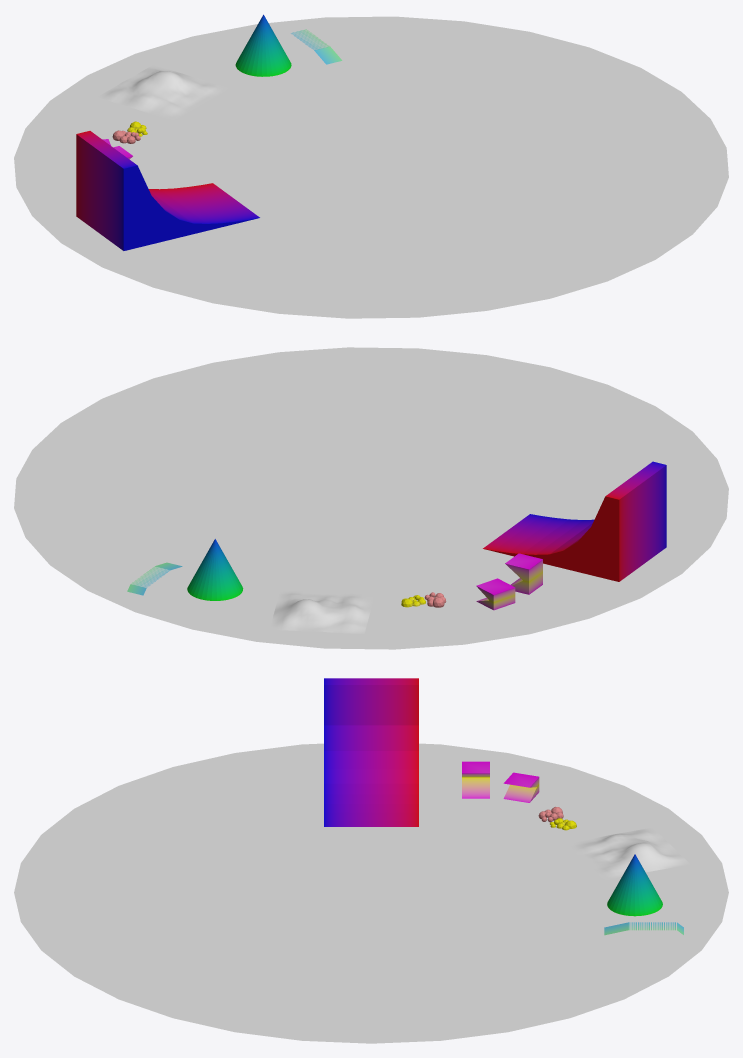
The model's file is kcc.glb.
The picture shows the model from 3 angles, top to bottom: view 1: azimuth 30°, elevation 25°; view 2: azimuth 150°, elevation 25°; view 3: azimuth 270°, elevation 25°; orthographic projection.
Parts seen in each view (by area): view 1: Cylinder, Cube, Plane, Cone, Plane.001; view 2: Cylinder, Cube, Plane, Cone, Cube.001, Cube.002, Plane.001, Icosphere; view 3: Cylinder, Cube, Plane, Cone, Cube.001, Cube.002, Plane.001.
Boxes of the visible parts, box(x1,y1,x2,y2) form: Cylinder: box(14, 16, 728, 318); Cube: box(76, 131, 259, 250); Plane: box(97, 64, 229, 120); Cone: box(235, 14, 291, 76); Plane.001: box(291, 29, 342, 64); Cylinder: box(14, 347, 728, 649); Cube: box(483, 461, 666, 581); Plane: box(269, 589, 374, 633); Cone: box(187, 539, 243, 600); Cube.001: box(505, 553, 542, 594); Cube.002: box(476, 578, 515, 610); Plane.001: box(127, 562, 182, 595); Icosphere: box(401, 592, 446, 607); Cylinder: box(14, 743, 728, 1043); Cube: box(324, 678, 418, 826); Plane: box(565, 827, 689, 880); Cone: box(607, 854, 662, 916); Cube.001: box(462, 761, 489, 798); Cube.002: box(503, 772, 539, 802); Plane.001: box(604, 922, 683, 935).
Size of the model in its own units: 256 by 34.78 by 256.
